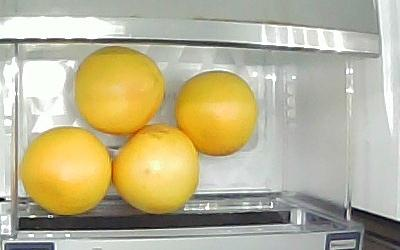grapefruit: (21, 127, 113, 214), (114, 125, 201, 213), (77, 47, 165, 134), (176, 70, 258, 157)
